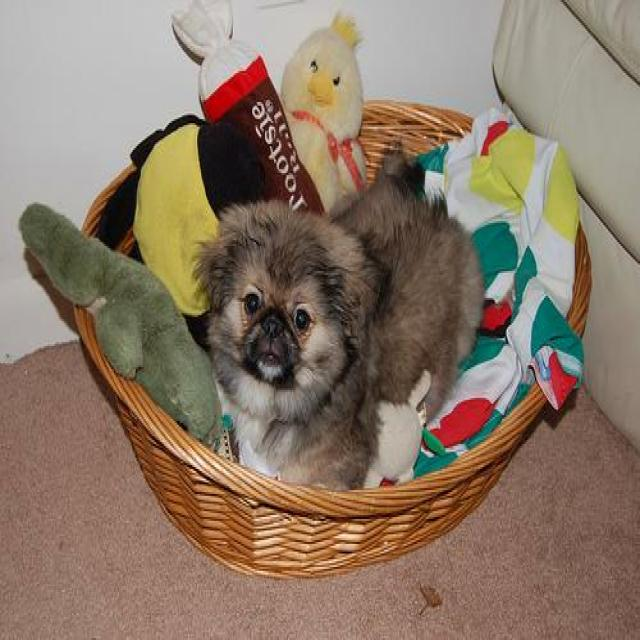pekinese: (193, 140, 483, 494)
